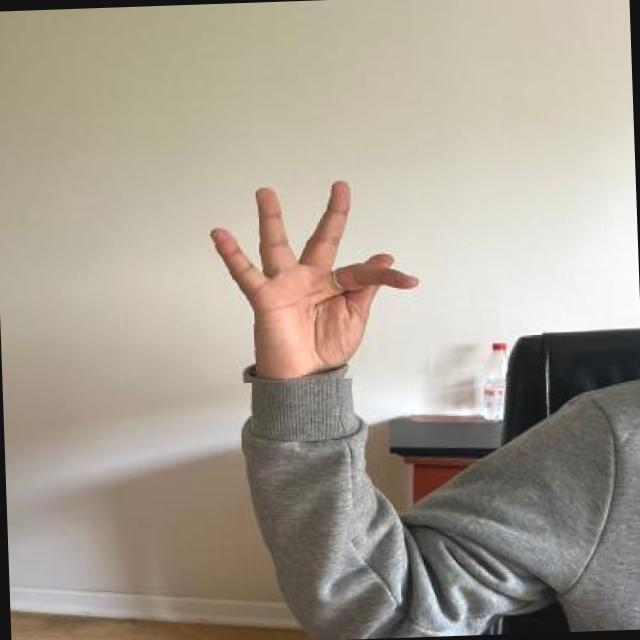F: (200, 169, 437, 385)
